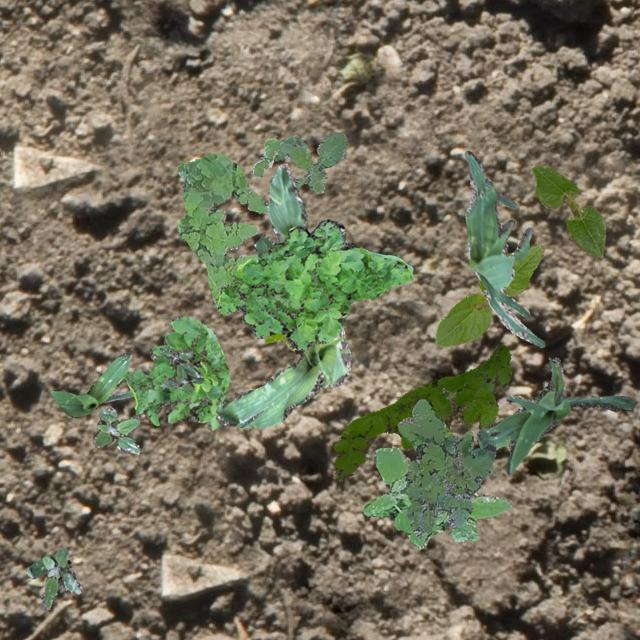crop: (214, 235, 350, 428), (476, 356, 634, 474), (464, 150, 544, 346), (434, 244, 542, 346), (530, 165, 604, 258), (49, 352, 132, 417), (266, 162, 306, 242)
weed: (216, 218, 412, 350), (332, 344, 510, 478), (362, 447, 512, 548), (176, 152, 268, 304), (396, 398, 496, 536), (123, 314, 230, 428), (252, 132, 346, 192), (24, 548, 80, 608), (92, 406, 138, 454), (158, 347, 202, 392), (264, 332, 294, 349)
